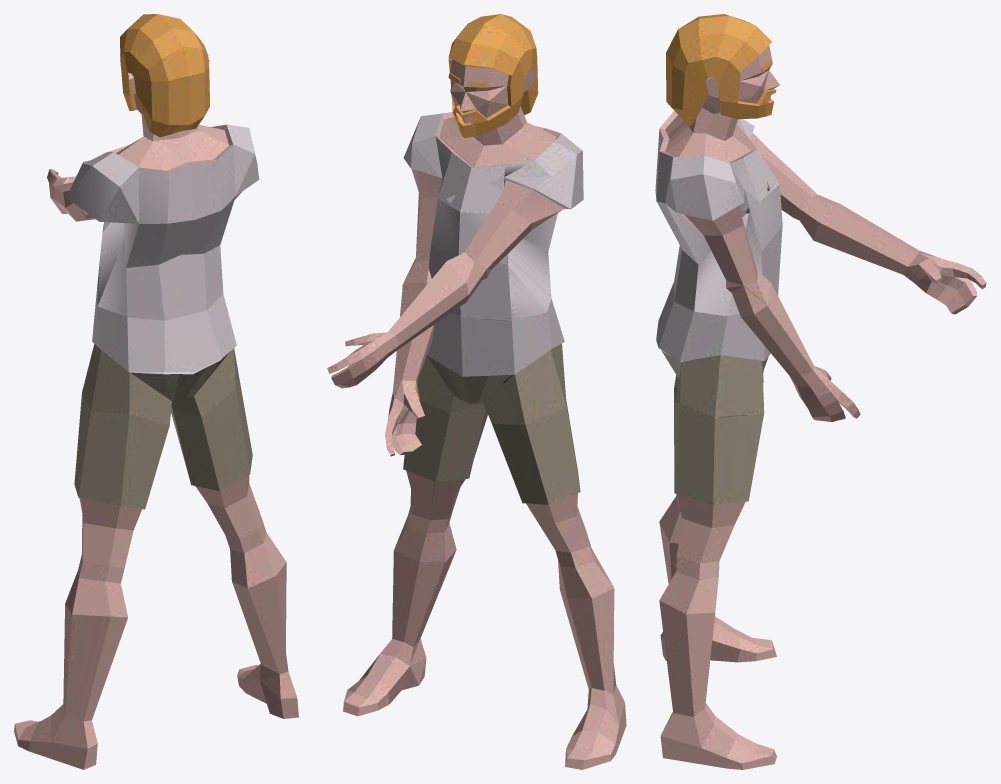
Rendered from inf_civ_0_armed.glb.
3 views of the same model, side by side, from view 1: azimuth 30°, elevation 25°; view 2: azimuth 150°, elevation 25°; view 3: azimuth 270°, elevation 25° (orthographic). The views are drawn at different scales.
Parts seen in each view (by area): view 1: inf_civ_0_armed; view 2: inf_civ_0_armed; view 3: inf_civ_0_armed.
Boxes of the visible parts, bbox=[...] form: inf_civ_0_armed: bbox=[14, 14, 298, 769]; inf_civ_0_armed: bbox=[327, 14, 626, 769]; inf_civ_0_armed: bbox=[655, 14, 986, 769].
Size of the model in its own units: 0.6845 by 1.74 by 0.7557.
Materials: 1 (1 with a texture image).
